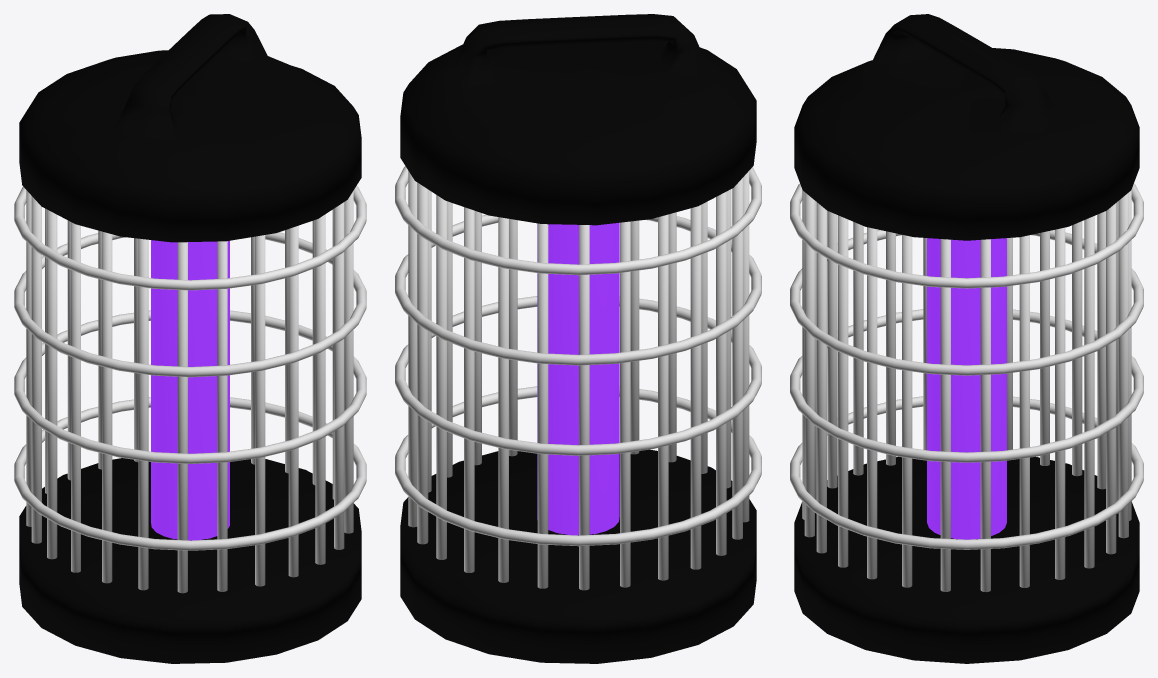
File: trap_chess.glb
The picture shows the model from 3 angles, left to right: view 1: azimuth 30°, elevation 25°; view 2: azimuth 150°, elevation 25°; view 3: azimuth 270°, elevation 25°; orthographic projection. The views are drawn at different scales.
Parts seen in each view (by area): view 1: Cylinder.001, Cylinder.003, Cylinder, Cylinder.002, Torus.003, Torus.002, Torus.001, Torus; view 2: Cylinder.001, Cylinder.003, Cylinder, Cylinder.002, Torus.002, Torus.003, Torus.001, Torus; view 3: Cylinder.001, Cylinder.003, Cylinder, Cylinder.002, Torus.003, Torus.002, Torus.001, Torus.
Part boxes in pixels (bbox=[...]): Cylinder.001: bbox=[19, 14, 361, 242]; Cylinder.003: bbox=[26, 190, 353, 593]; Cylinder: bbox=[19, 458, 361, 663]; Cylinder.002: bbox=[151, 240, 229, 540]; Torus.003: bbox=[14, 397, 366, 550]; Torus.002: bbox=[14, 310, 366, 463]; Torus.001: bbox=[14, 232, 366, 377]; Torus: bbox=[14, 186, 366, 290]; Cylinder.001: bbox=[400, 14, 756, 225]; Cylinder.003: bbox=[408, 171, 749, 590]; Cylinder: bbox=[400, 449, 756, 663]; Cylinder.002: bbox=[537, 222, 619, 535]; Torus.002: bbox=[395, 296, 761, 455]; Torus.003: bbox=[395, 386, 761, 546]; Torus.001: bbox=[395, 214, 761, 365]; Torus: bbox=[395, 166, 761, 275]; Cylinder.001: bbox=[794, 14, 1139, 240]; Cylinder.003: bbox=[802, 190, 1131, 592]; Cylinder: bbox=[794, 456, 1139, 663]; Cylinder.002: bbox=[927, 238, 1006, 539]; Torus.003: bbox=[790, 396, 1143, 549]; Torus.002: bbox=[790, 309, 1143, 462]; Torus.001: bbox=[790, 230, 1143, 375]; Torus: bbox=[790, 184, 1143, 288].
Size of the model in its own units: 2.06 by 3.49 by 2.05.
